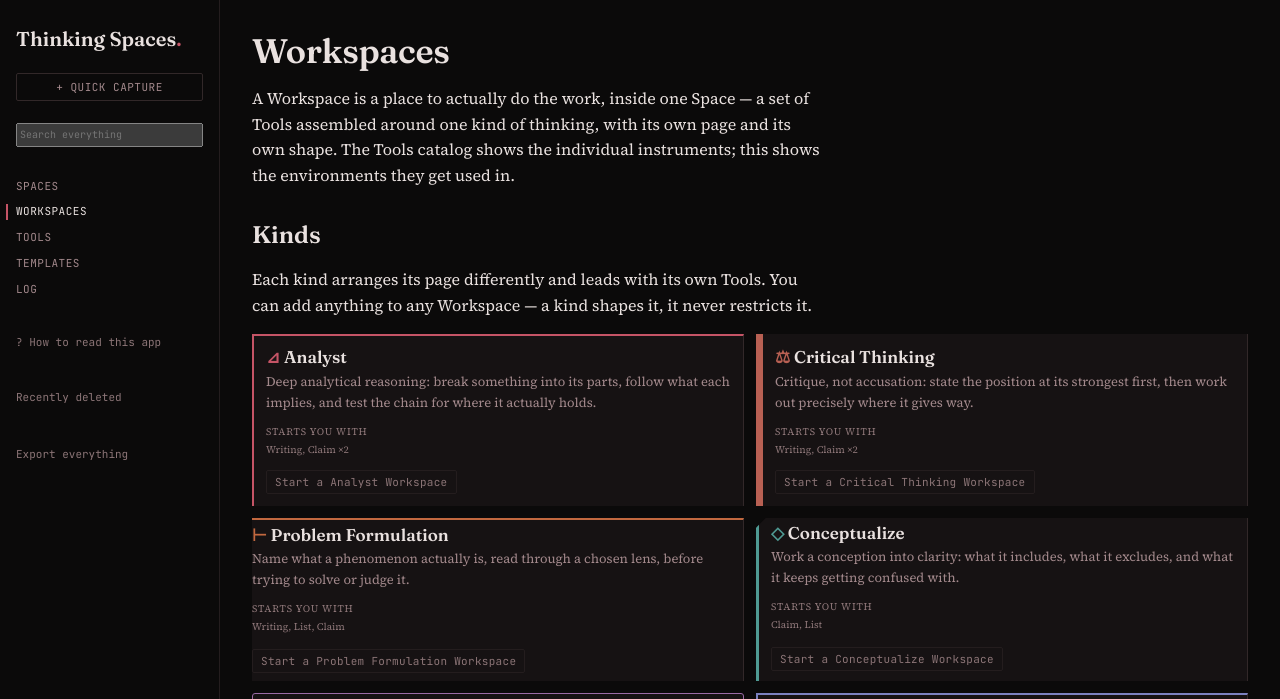
Test case: WorkspacesPage: the catalog › asks which Space to put a new Workspace in, since one belongs to exactly one Space
Expected: the heading "⊿ Analyst" is shown, [266,346,347,367]
Click the button "Start a Analyst Workspace" at (361, 482), box [266,470,456,494]
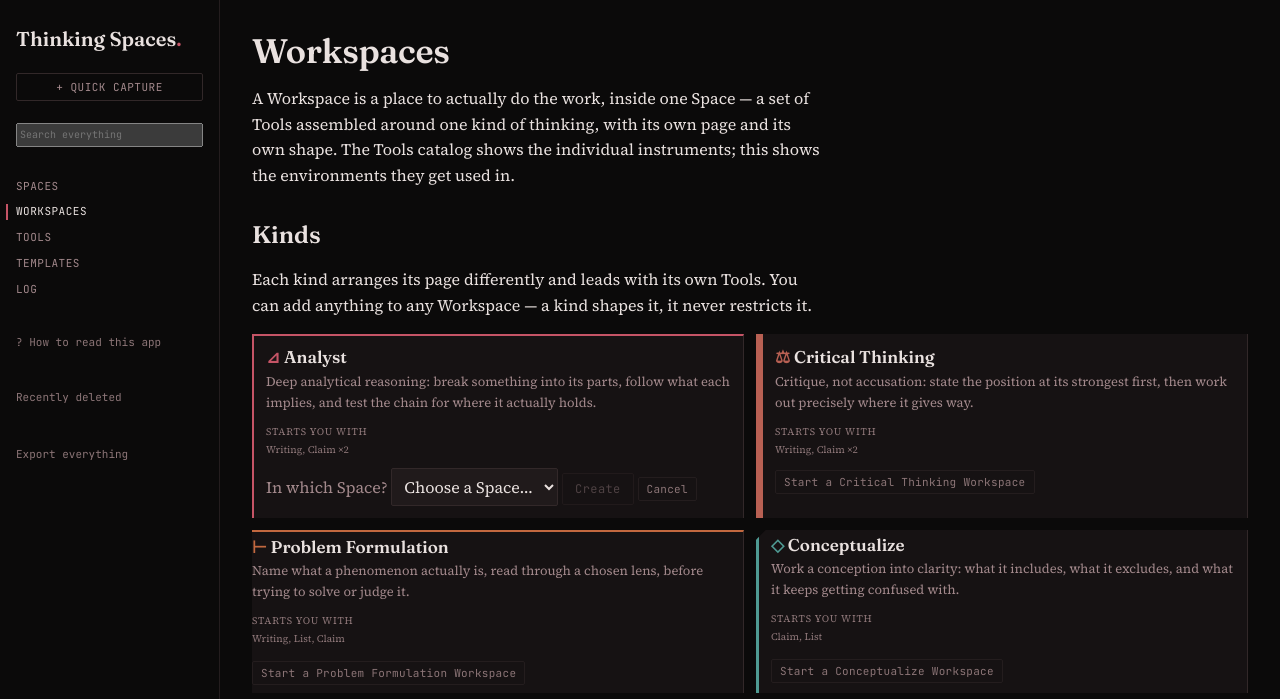
Now the text "In which Space?" is shown, box [266,476,558,498]
